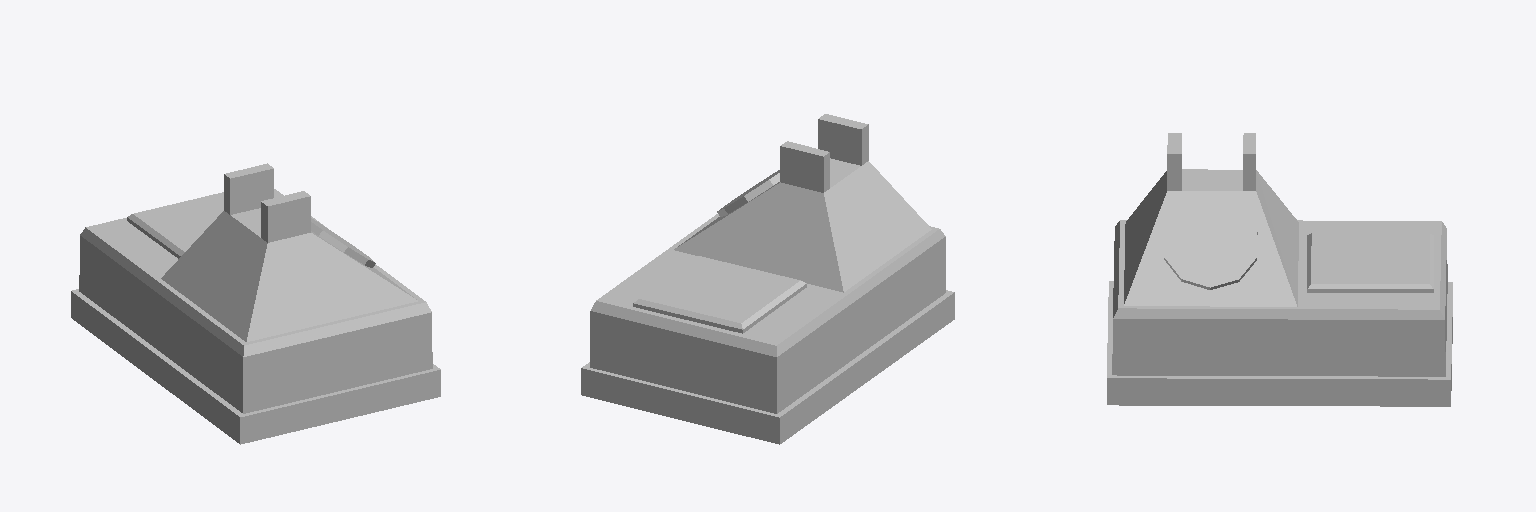
File: phoneBase_mesh 1.obj
3 views of the same model, side by side, from view 1: azimuth 30°, elevation 25°; view 2: azimuth 150°, elevation 25°; view 3: azimuth 270°, elevation 25° (orthographic).
Parts seen in each view (by area): view 1: phoneBase_mesh; view 2: phoneBase_mesh; view 3: phoneBase_mesh.
Part boxes in pixels (bbox=[...]): phoneBase_mesh: bbox=[71, 163, 440, 444]; phoneBase_mesh: bbox=[581, 114, 954, 444]; phoneBase_mesh: bbox=[1107, 133, 1452, 406].
Size of the model in its own units: 0.2298 by 0.2199 by 0.3407.